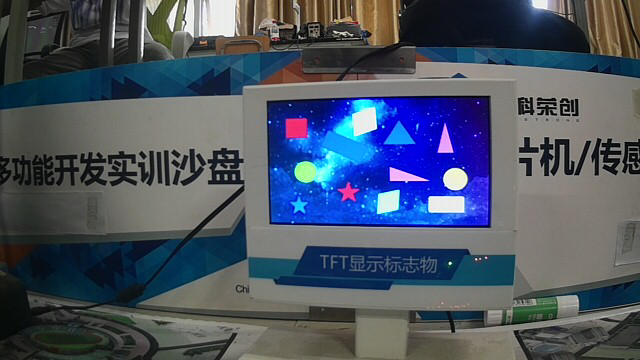graph: (264, 93, 498, 231)
